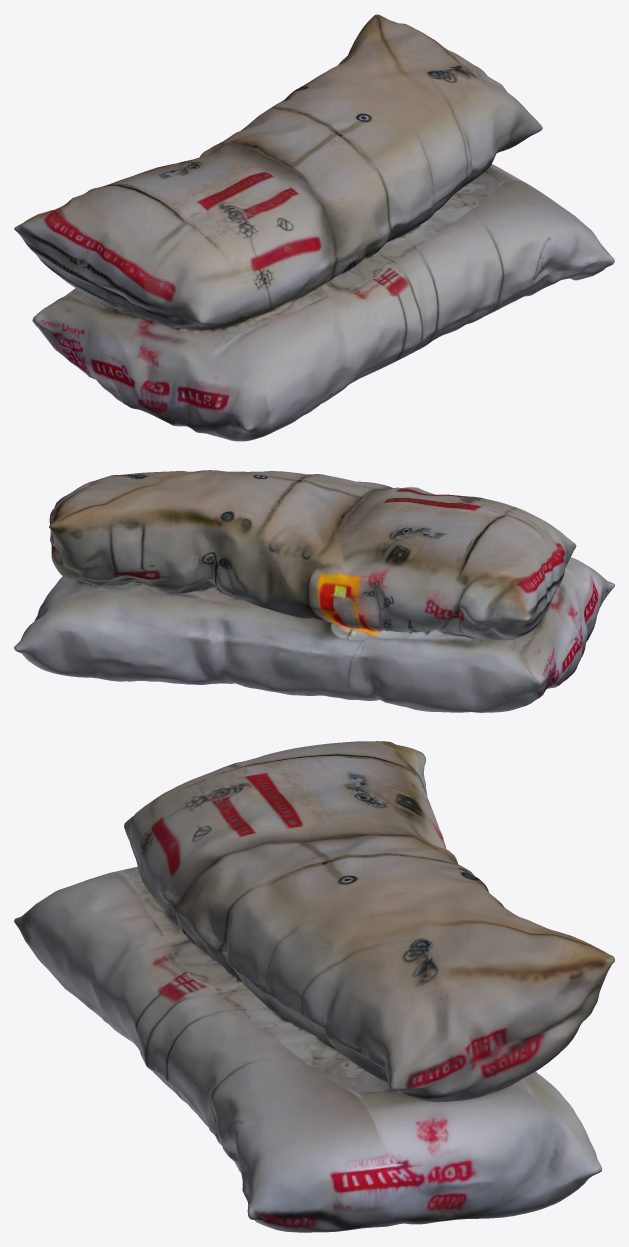
Rendered from sacs-fibrociment.glb.
3 renders of one model, top to bottom at view 1: azimuth 30°, elevation 25°; view 2: azimuth 150°, elevation 25°; view 3: azimuth 270°, elevation 25°, orthographic. The views are drawn at different scales.
Bounding box in the file's own units: 2.01 × 0.7039 × 1.57.
1 material, 1 textured.
